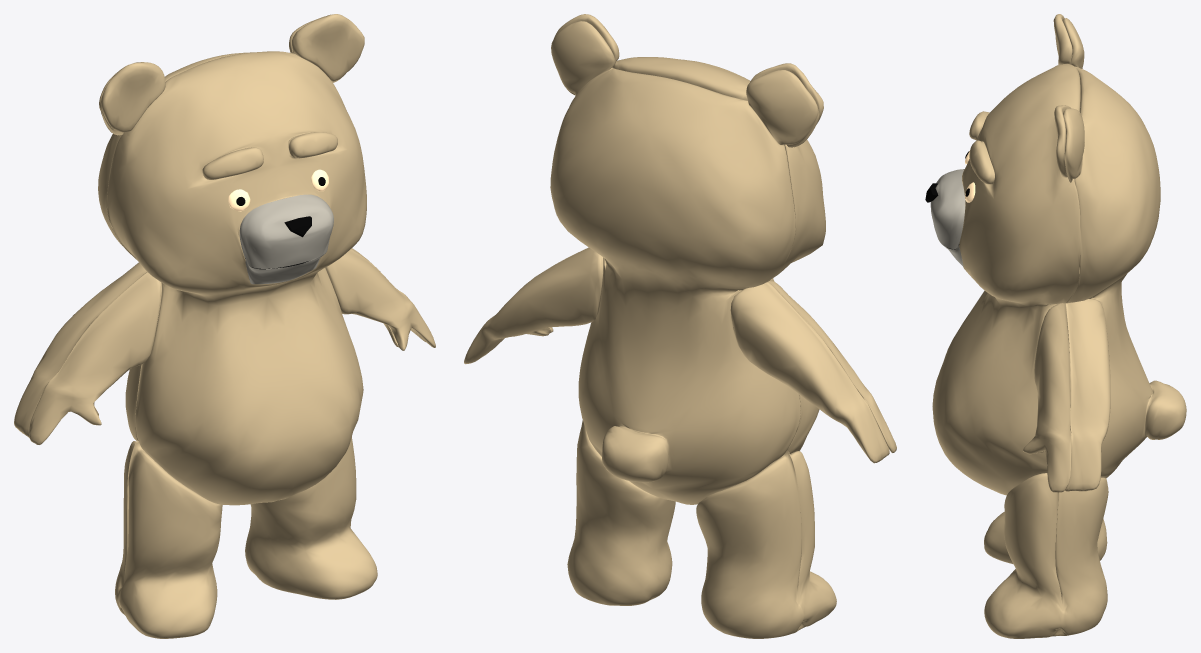
Rendered from ted.fbx.
3 views of the same model, side by side, from view 1: azimuth 30°, elevation 25°; view 2: azimuth 150°, elevation 25°; view 3: azimuth 270°, elevation 25° (orthographic). The views are drawn at different scales.
Visible parts, largest first — view 1: Cube.002_Material.005, Cube.002_Material.003, Cube.002_Material.006, Cube.002_Material.002, Cube.002_Material.004; view 2: Cube.002_Material.005, Cube.002_Material.003; view 3: Cube.002_Material.003, Cube.002_Material.005, Cube.002_Material.006.
Boxes of the visible parts, x1,y1,x2,y2 form: Cube.002_Material.005: (14, 14, 435, 638); Cube.002_Material.003: (19, 14, 435, 638); Cube.002_Material.006: (239, 194, 333, 284); Cube.002_Material.002: (239, 195, 323, 284); Cube.002_Material.004: (228, 169, 328, 211); Cube.002_Material.005: (464, 14, 896, 638); Cube.002_Material.003: (464, 15, 895, 636); Cube.002_Material.003: (939, 16, 1186, 638); Cube.002_Material.005: (932, 14, 1186, 638); Cube.002_Material.006: (930, 169, 965, 266).
Bounding box in the file's own units: 758 × 991 × 446.
